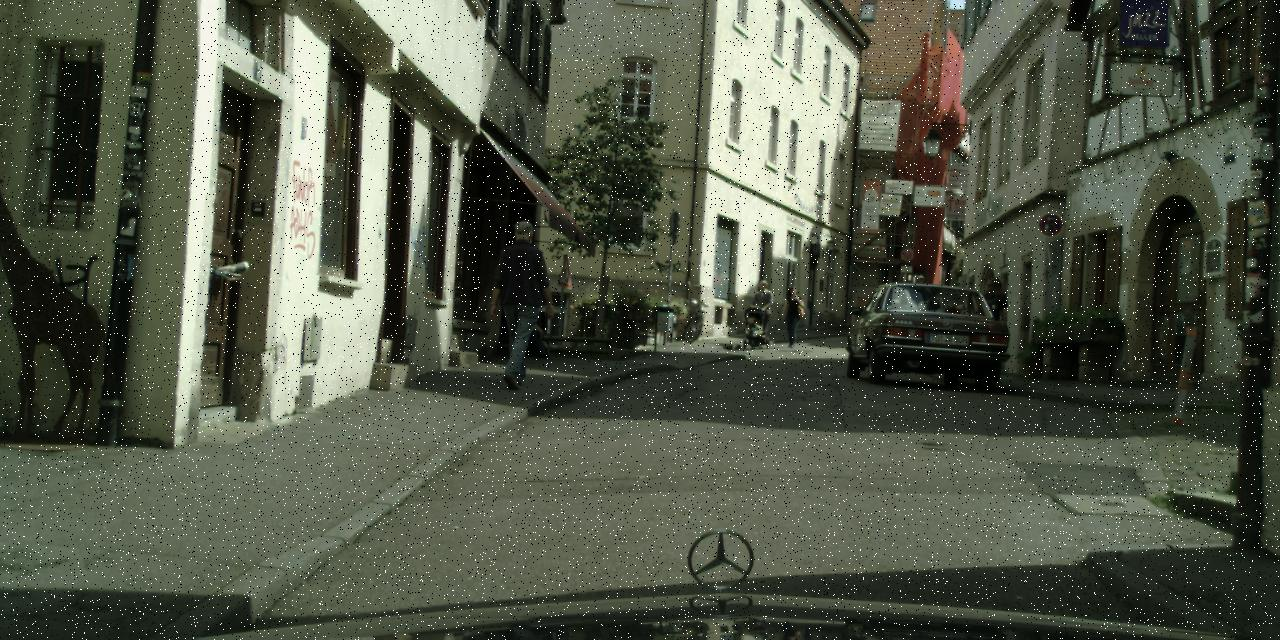ped: (487, 220, 553, 384), (971, 277, 1014, 381), (747, 278, 775, 348), (779, 285, 804, 346)
